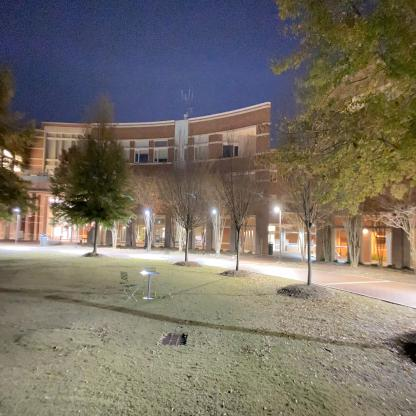eb2: (2, 110, 305, 256)
